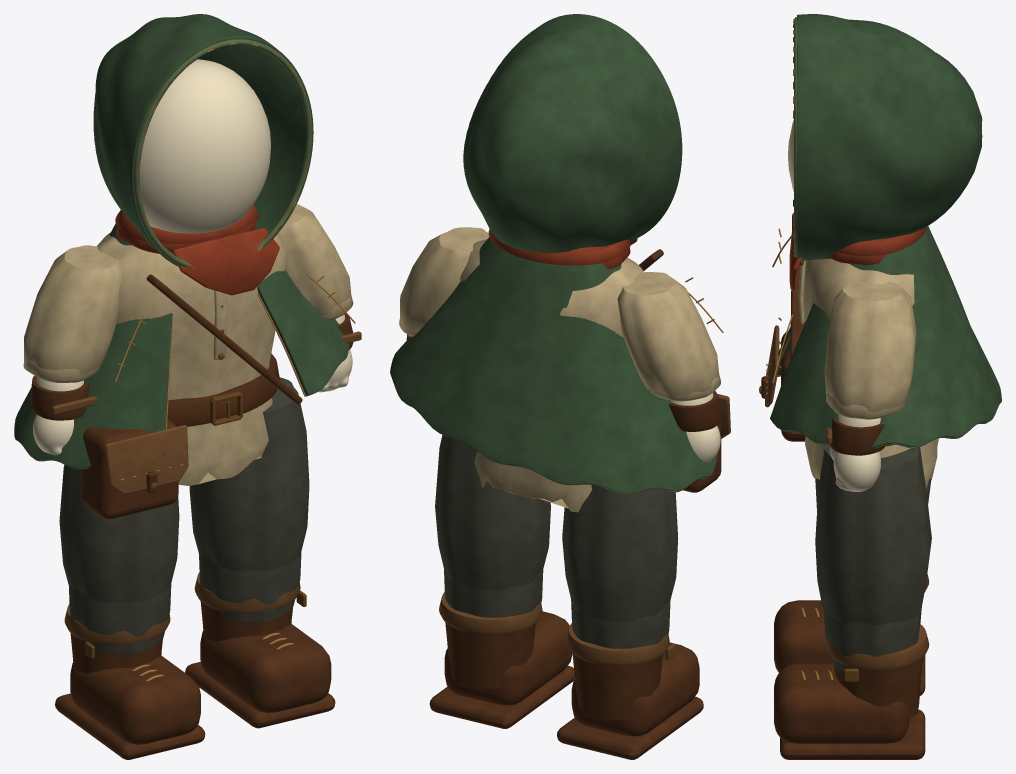
3 renders of one model, left to right at view 1: azimuth 30°, elevation 25°; view 2: azimuth 150°, elevation 25°; view 3: azimuth 270°, elevation 25°, orthographic. The views are drawn at different scales.
Visible parts, largest first — view 1: A_TravelerHood, A_Shirt, A_Face, A_LongWayfarerCape, A_PantsUpperR, A_BootShaftR, A_BootShaftL, A_PantsUpperL, A_SleeveL, A_ScarfDrape, A_Satchel, A_SleeveR (+13 smaller); view 2: A_LongWayfarerCape, A_TravelerHood, A_PantsUpperL, A_PantsUpperR, A_BootShaftL, A_BootShaftR, A_SleeveL, A_Shirt, A_SleeveR, A_PantsLowerL, A_PantsLowerR, A_ScarfDrape (+5 smaller); view 3: A_TravelerHood, A_LongWayfarerCape, A_PantsUpperR, A_BootShaftR, A_SleeveR, A_Shirt, A_BootShaftL, A_PantsLowerR, A_ScarfDrape, A_BootCuffR, A_PalmR, A_BracerR (+4 smaller).
Part boxes in pixels (x1=…): A_TravelerHood: x1=93, y1=14, x2=313, y2=266; A_Shirt: x1=96, y1=232, x2=285, y2=485; A_Face: x1=140, y1=59, x2=270, y2=233; A_LongWayfarerCape: x1=14, y1=224, x2=349, y2=468; A_PantsUpperR: x1=189, y1=377, x2=309, y2=571; A_BootShaftR: x1=185, y1=601, x2=335, y2=728; A_BootShaftL: x1=55, y1=633, x2=205, y2=759; A_PantsUpperL: x1=59, y1=464, x2=179, y2=603; A_SleeveL: x1=24, y1=245, x2=122, y2=374; A_ScarfDrape: x1=115, y1=204, x2=279, y2=295; A_Satchel: x1=81, y1=274, x2=302, y2=519; A_SleeveR: x1=277, y1=204, x2=351, y2=315; A_LongWayfarerCape: x1=390, y1=237, x2=717, y2=493; A_TravelerHood: x1=463, y1=14, x2=682, y2=253; A_PantsUpperL: x1=562, y1=485, x2=678, y2=621; A_PantsUpperR: x1=435, y1=435, x2=550, y2=590; A_BootShaftL: x1=557, y1=642, x2=703, y2=759; A_BootShaftR: x1=429, y1=611, x2=574, y2=728; A_SleeveL: x1=617, y1=272, x2=718, y2=395; A_Shirt: x1=460, y1=239, x2=643, y2=512; A_SleeveR: x1=400, y1=227, x2=489, y2=333; A_PantsLowerL: x1=571, y1=600, x2=670, y2=648; A_PantsLowerR: x1=444, y1=569, x2=543, y2=617; A_ScarfDrape: x1=488, y1=229, x2=637, y2=268; A_TravelerHood: x1=797, y1=14, x2=982, y2=260; A_LongWayfarerCape: x1=770, y1=226, x2=1001, y2=447; A_PantsUpperR: x1=815, y1=444, x2=931, y2=624; A_BootShaftR: x1=774, y1=658, x2=925, y2=759; A_SleeveR: x1=824, y1=281, x2=916, y2=412; A_Shirt: x1=798, y1=258, x2=938, y2=488; A_BootShaftL: x1=774, y1=600, x2=925, y2=695; A_PantsLowerR: x1=823, y1=608, x2=920, y2=672; A_ScarfDrape: x1=789, y1=220, x2=926, y2=289; A_BootCuffR: x1=826, y1=624, x2=929, y2=670; A_PalmR: x1=830, y1=446, x2=880, y2=491; A_BracerR: x1=830, y1=418, x2=885, y2=455.
Size of the model in its own units: 0.9315 by 1.93 by 0.6178.
Materials: 10 (10 with a texture image).
